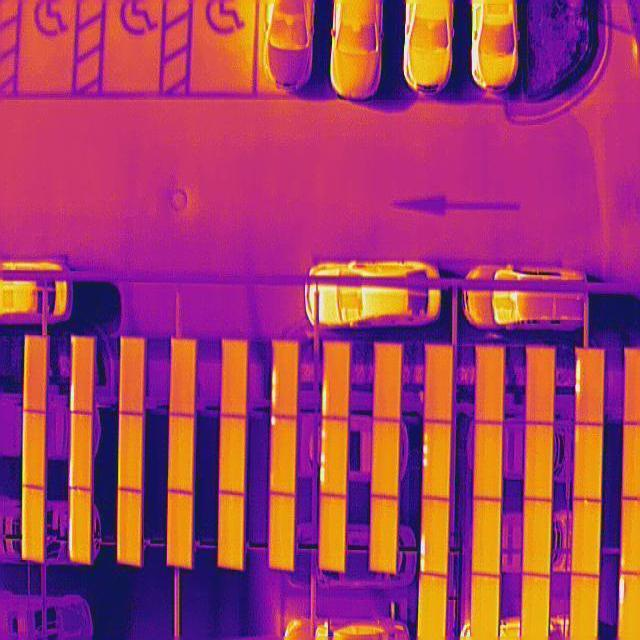Cell: (270, 415, 296, 494)
Cell-Multi: (423, 419, 451, 500), (321, 418, 348, 497)
No-Anomaly: (572, 498, 602, 576), (425, 345, 454, 424), (525, 424, 555, 500), (523, 498, 553, 574), (475, 422, 504, 500), (219, 413, 247, 492), (574, 422, 603, 498), (476, 346, 504, 424), (526, 347, 554, 425), (222, 338, 249, 418), (373, 418, 400, 498), (374, 345, 402, 420), (372, 495, 398, 575), (171, 338, 197, 417), (218, 492, 245, 568), (319, 495, 346, 571), (474, 499, 501, 575), (168, 415, 194, 493), (121, 336, 146, 415), (119, 412, 144, 490), (270, 490, 294, 571), (168, 492, 193, 568), (571, 575, 600, 640), (118, 490, 143, 564), (23, 412, 47, 488), (521, 575, 549, 640), (24, 338, 48, 413), (472, 576, 500, 640), (22, 487, 45, 562)
Unclassified: (575, 347, 605, 422), (420, 500, 449, 576), (323, 340, 350, 418), (273, 342, 300, 418), (70, 336, 94, 415), (70, 411, 94, 490), (69, 488, 91, 564)
